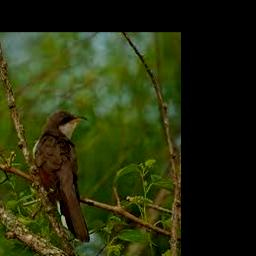Cuckoo: (32, 110, 91, 242)
